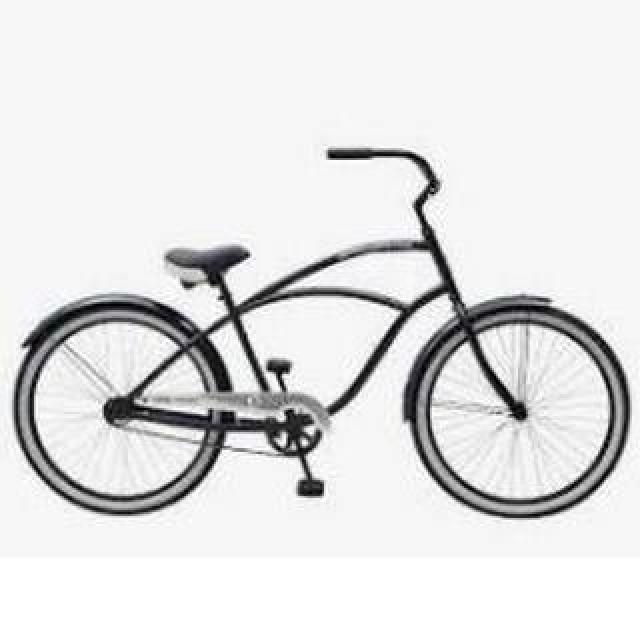Person: (13, 141, 629, 517)
